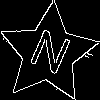N: (23, 28, 74, 84)
